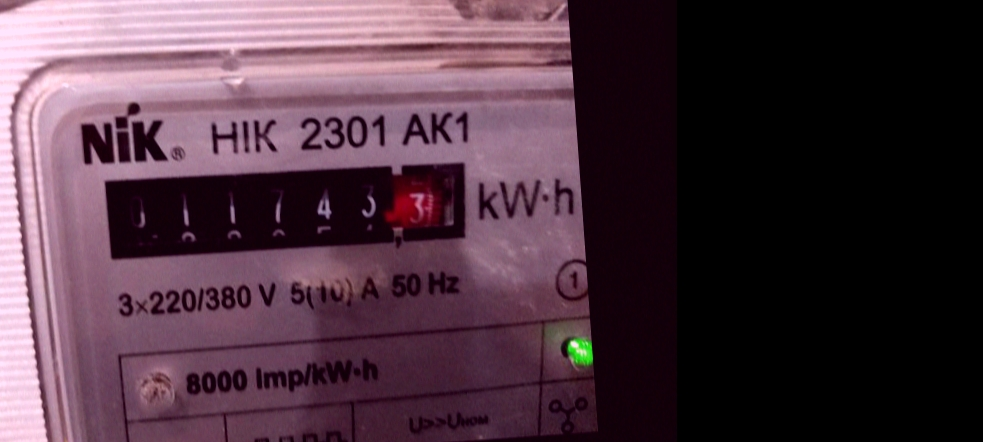0: (123, 191, 148, 232), (173, 187, 194, 229)
1: (220, 185, 239, 227)
3: (355, 178, 378, 222), (404, 188, 426, 227)
4: (310, 181, 333, 222)
7: (263, 181, 289, 227)
screen: (82, 141, 477, 275)
